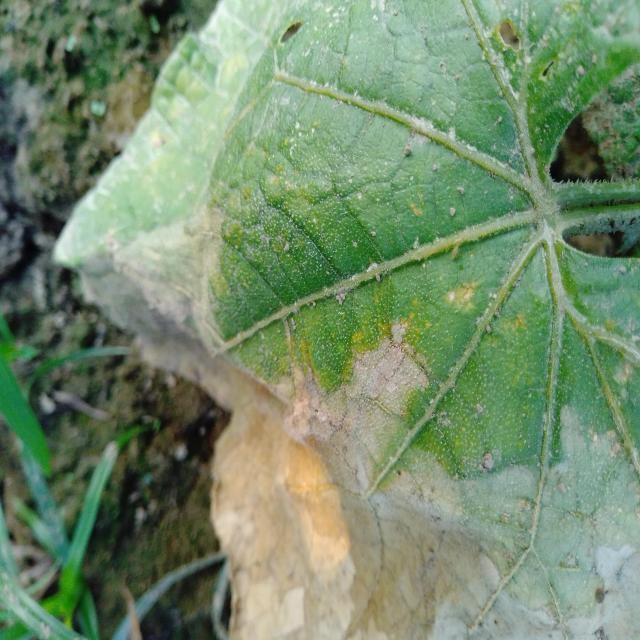cucumber_gummy: (43, 0, 640, 640)
